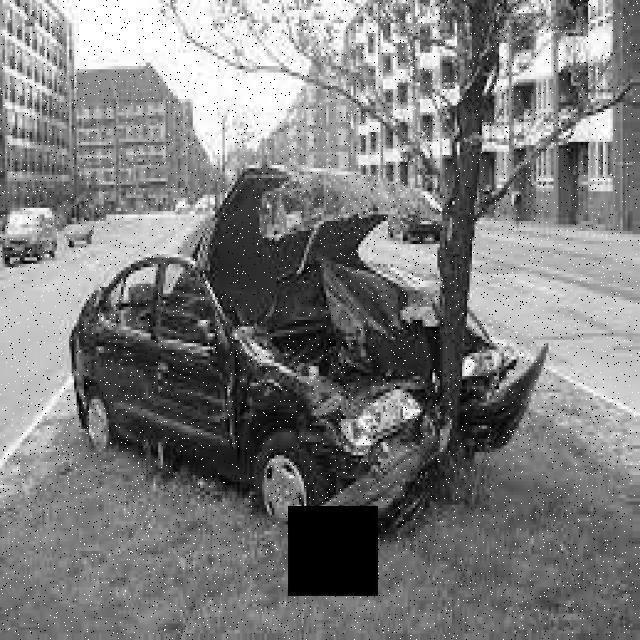accident: (64, 155, 551, 548)
vehicle: (2, 202, 58, 262), (401, 196, 443, 241), (169, 197, 189, 215), (195, 193, 210, 215)
